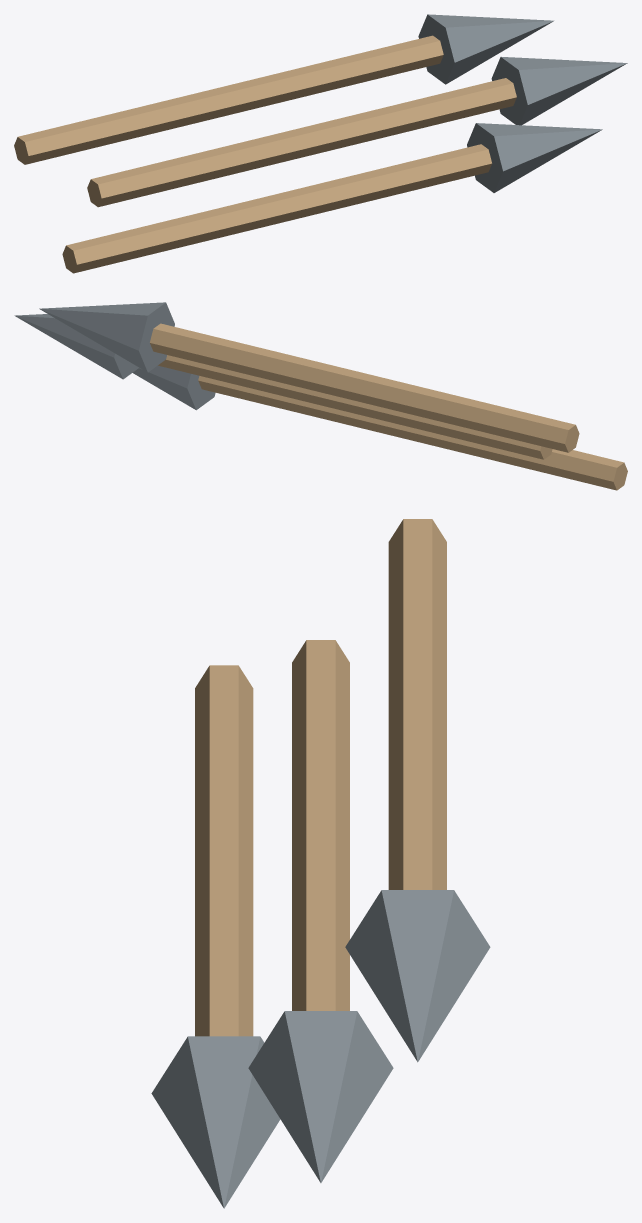
The model's file is item_110_iron_spear_m.glb.
3 renders of one model, top to bottom at view 1: azimuth 30°, elevation 25°; view 2: azimuth 150°, elevation 25°; view 3: azimuth 270°, elevation 25°, orthographic. The views are drawn at different scales.
Visible parts, largest first — view 1: item_110_iron_spear_m; view 2: item_110_iron_spear_m; view 3: item_110_iron_spear_m.
Boxes of the visible parts, left/top/right/bottom form: item_110_iron_spear_m: left=14, top=14, right=627, bottom=273; item_110_iron_spear_m: left=14, top=302, right=627, bottom=490; item_110_iron_spear_m: left=151, top=519, right=490, bottom=1208.
Size of the model in its own units: 0.8332 by 0.1779 by 0.21.
